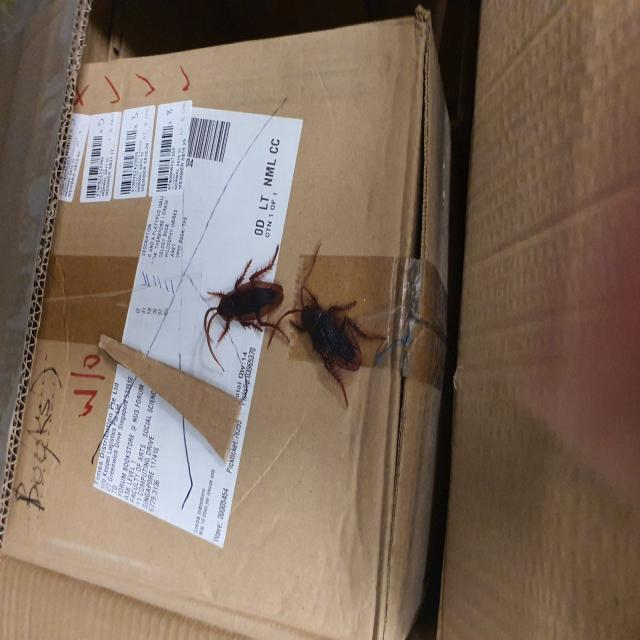Cockroach: (271, 244, 389, 401), (196, 243, 292, 369)
